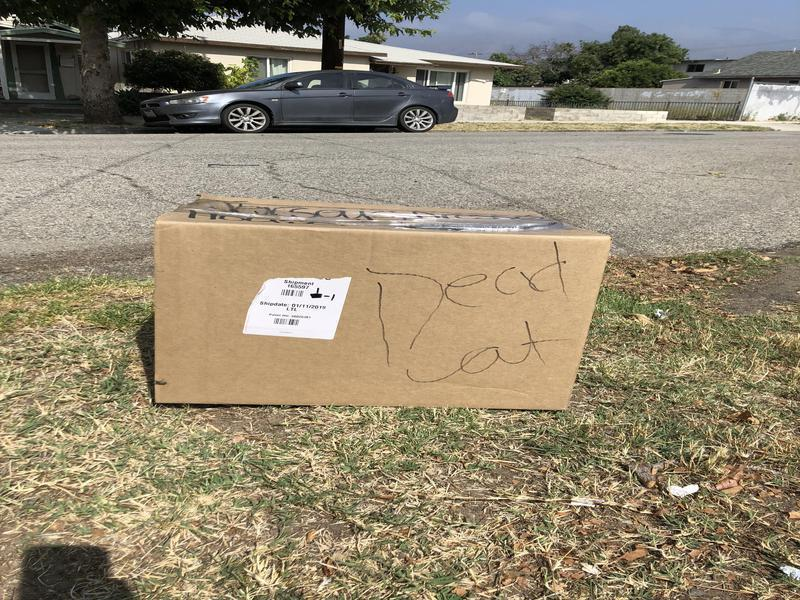cardboard: (134, 192, 617, 416)
